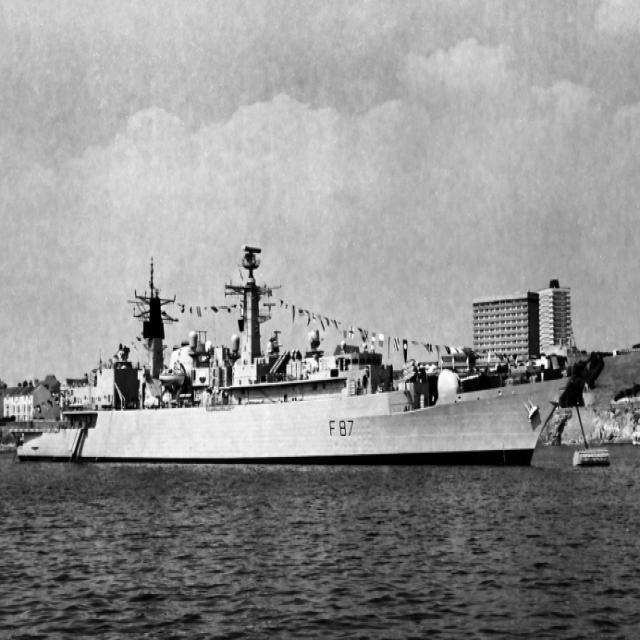Fragata: (1, 235, 585, 488)
